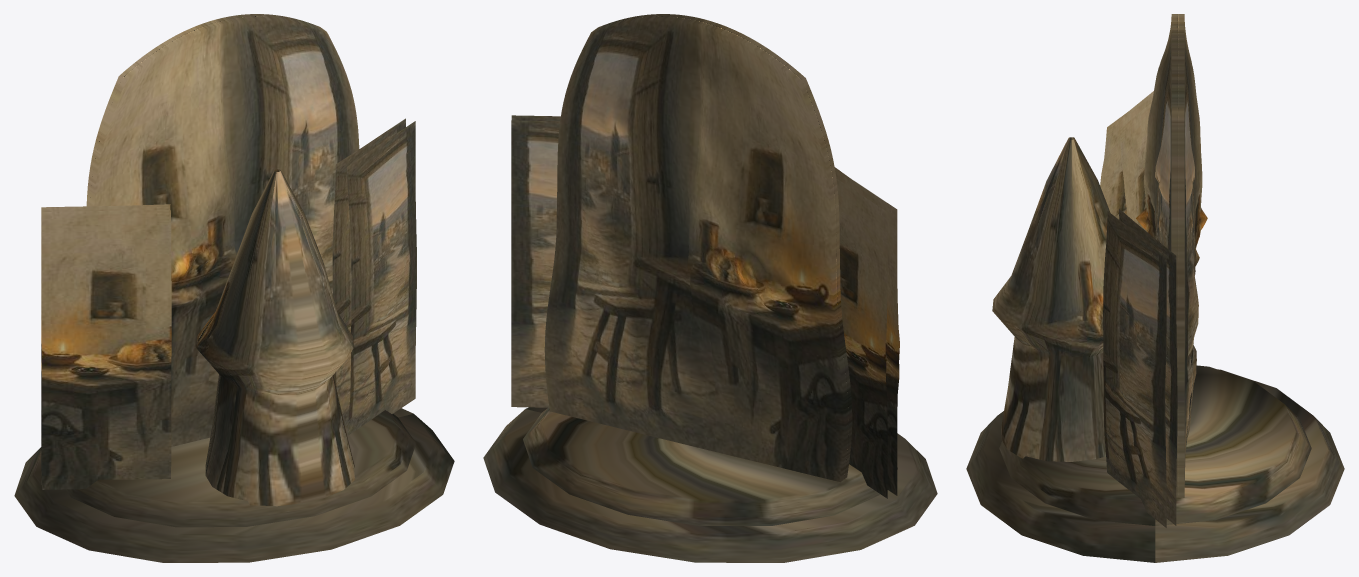
The model's file is good-news-of-great-joy-40.glb.
3 views of the same model, side by side, from view 1: azimuth 30°, elevation 25°; view 2: azimuth 150°, elevation 25°; view 3: azimuth 270°, elevation 25° (orthographic). The views are drawn at different scales.
Visible parts, largest first — view 1: PaintingSculptureMonument; view 2: PaintingSculptureMonument; view 3: PaintingSculptureMonument.
Boxes of the visible parts, x1,y1,x2,y2 form: PaintingSculptureMonument: (14, 14, 454, 562); PaintingSculptureMonument: (483, 14, 937, 562); PaintingSculptureMonument: (966, 14, 1344, 562).
Bounding box in the file's own units: 2.76 × 2.99 × 2.35.
1 material, 1 textured.
